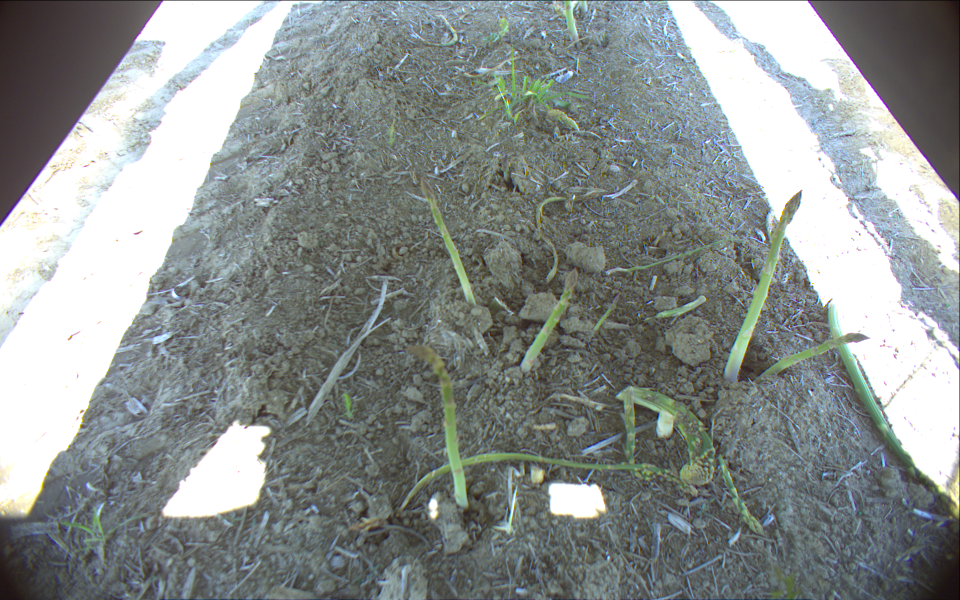aspa: (721, 187, 802, 386), (401, 340, 469, 512), (416, 175, 477, 311), (750, 330, 869, 388), (517, 266, 579, 376), (561, 1, 582, 45)
